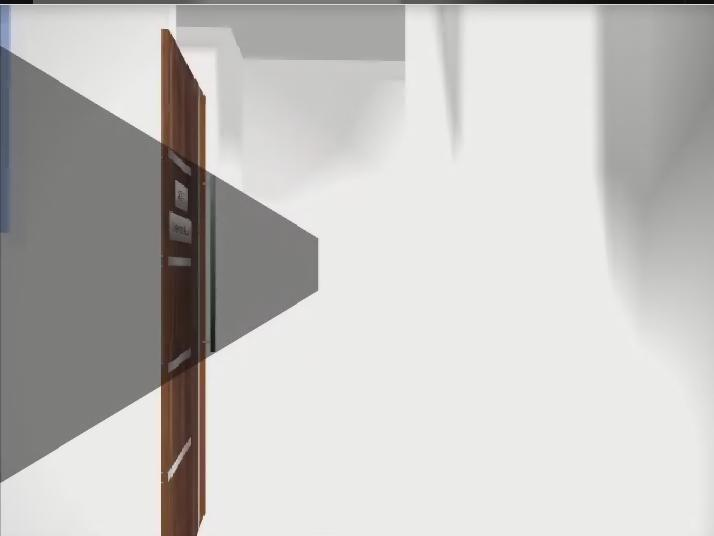door: (162, 30, 206, 536)
